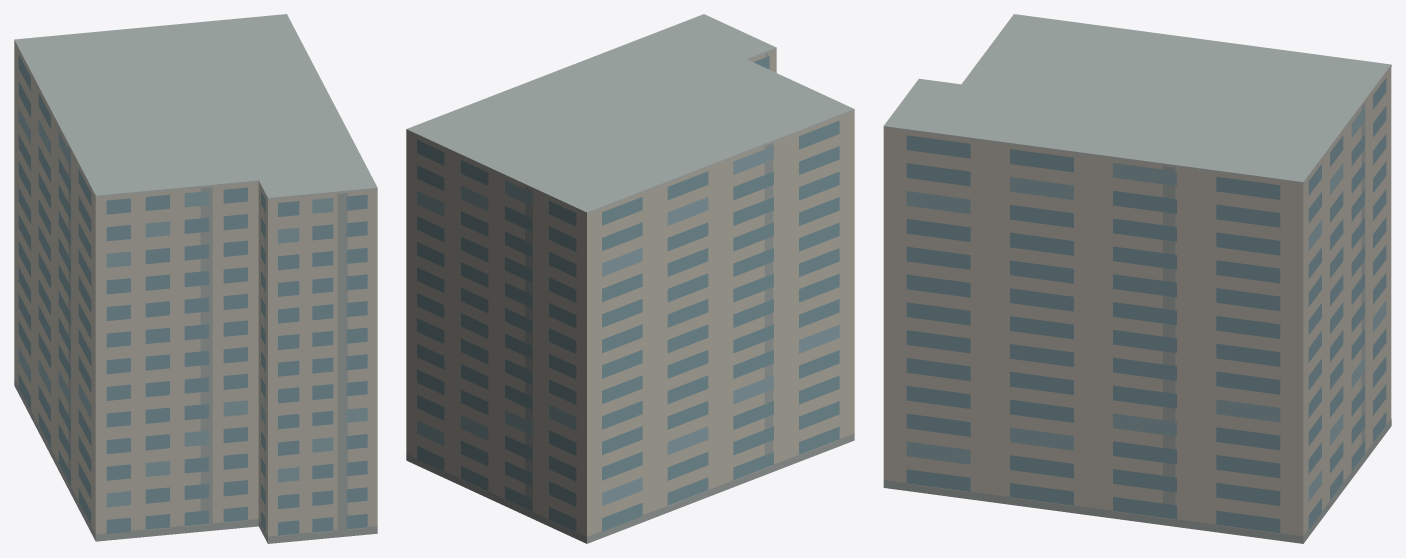
The model's file is residential-d5b3ec19-82a8-4704-a42c-6efa0efccb7c.glb.
3 views of the same model, side by side, from view 1: azimuth 30°, elevation 25°; view 2: azimuth 150°, elevation 25°; view 3: azimuth 270°, elevation 25° (orthographic). The views are drawn at different scales.
Visible parts, largest first — view 1: residential-d5b3ec19-82a8-4704-a42c-6efa0efccb7c.tmp; view 2: residential-d5b3ec19-82a8-4704-a42c-6efa0efccb7c.tmp; view 3: residential-d5b3ec19-82a8-4704-a42c-6efa0efccb7c.tmp.
Boxes of the visible parts, <box> form: residential-d5b3ec19-82a8-4704-a42c-6efa0efccb7c.tmp: <box>14,14,377,543</box>; residential-d5b3ec19-82a8-4704-a42c-6efa0efccb7c.tmp: <box>406,14,854,543</box>; residential-d5b3ec19-82a8-4704-a42c-6efa0efccb7c.tmp: <box>883,14,1391,543</box>.
Size of the model in its own units: 36.89 by 37 by 47.09.
